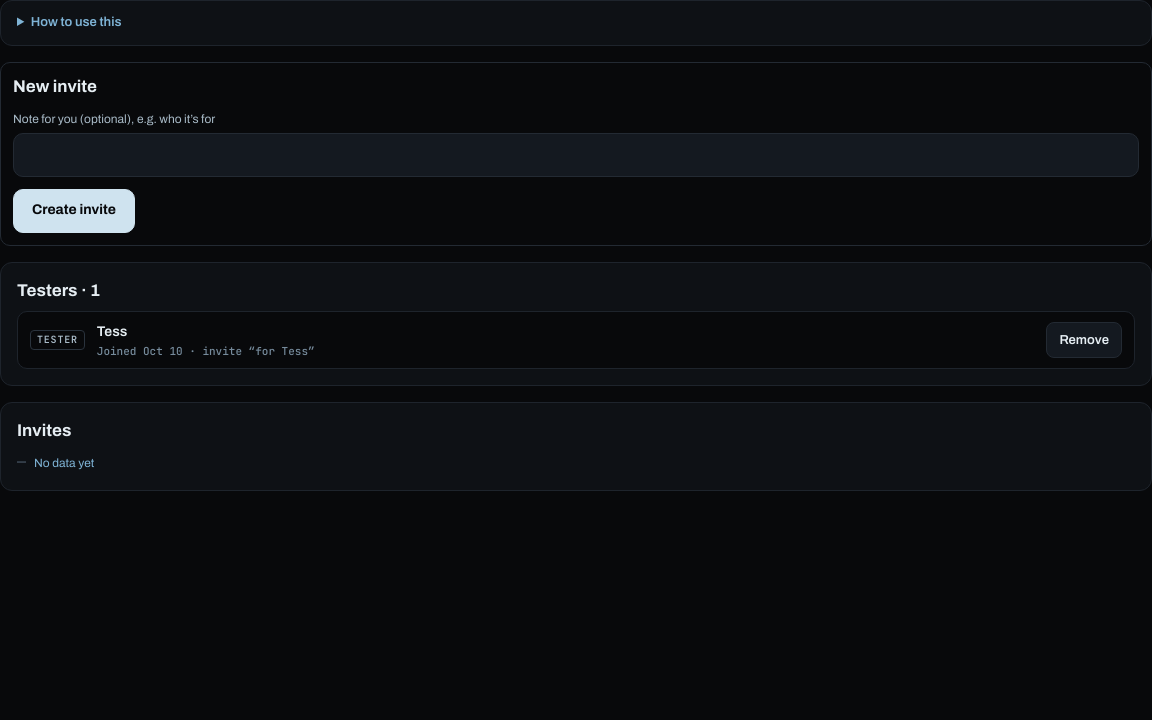
Test: Owner console → Members (T60) › removing a tester asks once more first
Click the button with aria-label "Remove Tess" at (1084,340), box [1046,322,1122,358]
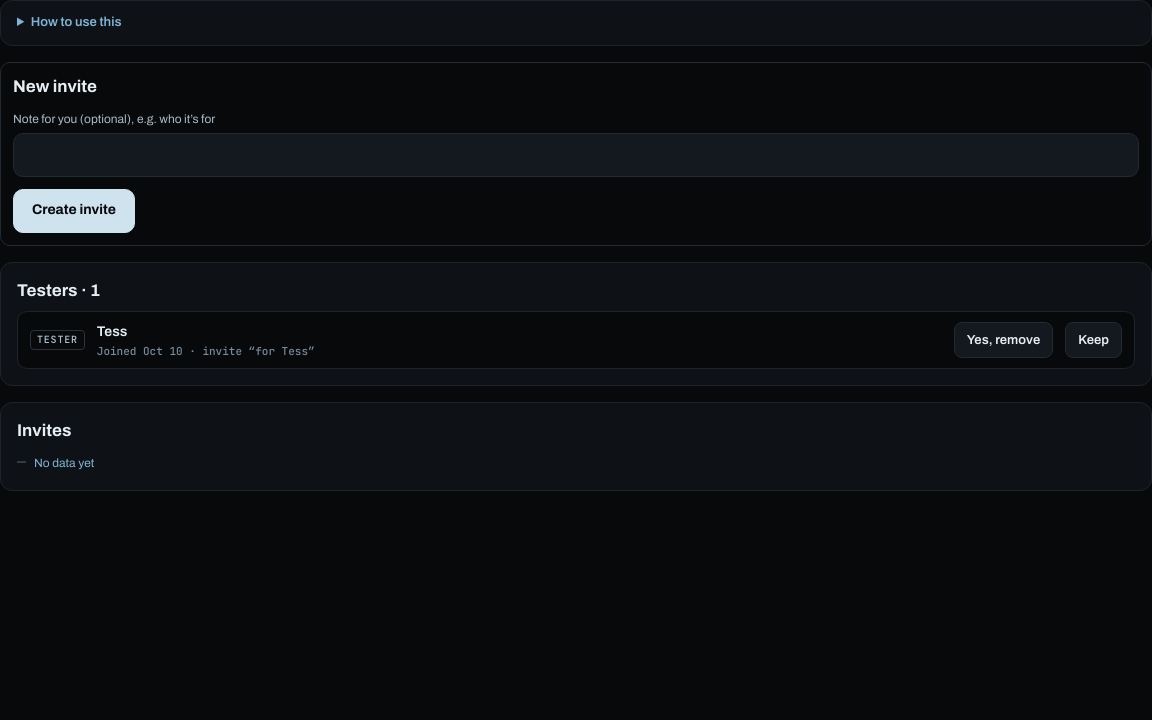
Click the button with aria-label "Yes, remove Tess" at (1003,340), box [954,322,1053,358]
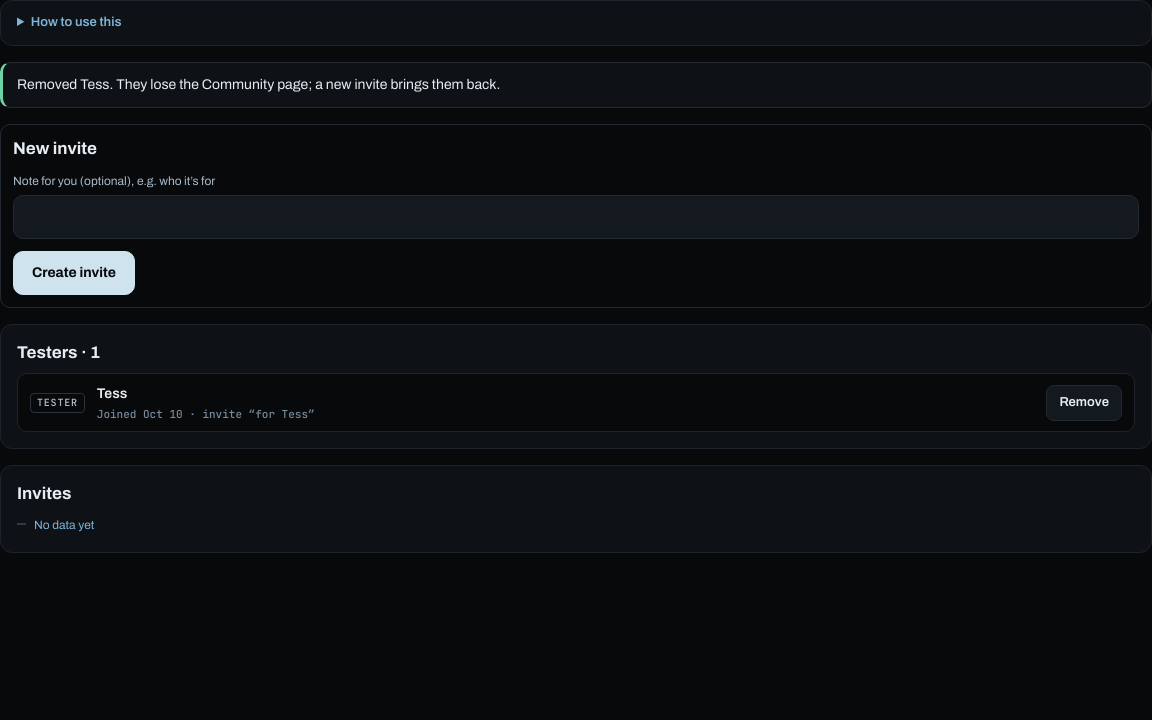
Expected: the text "Removed Tess. They lose the Community page; a new invite brings them back." is shown, [0,62,1151,108]
